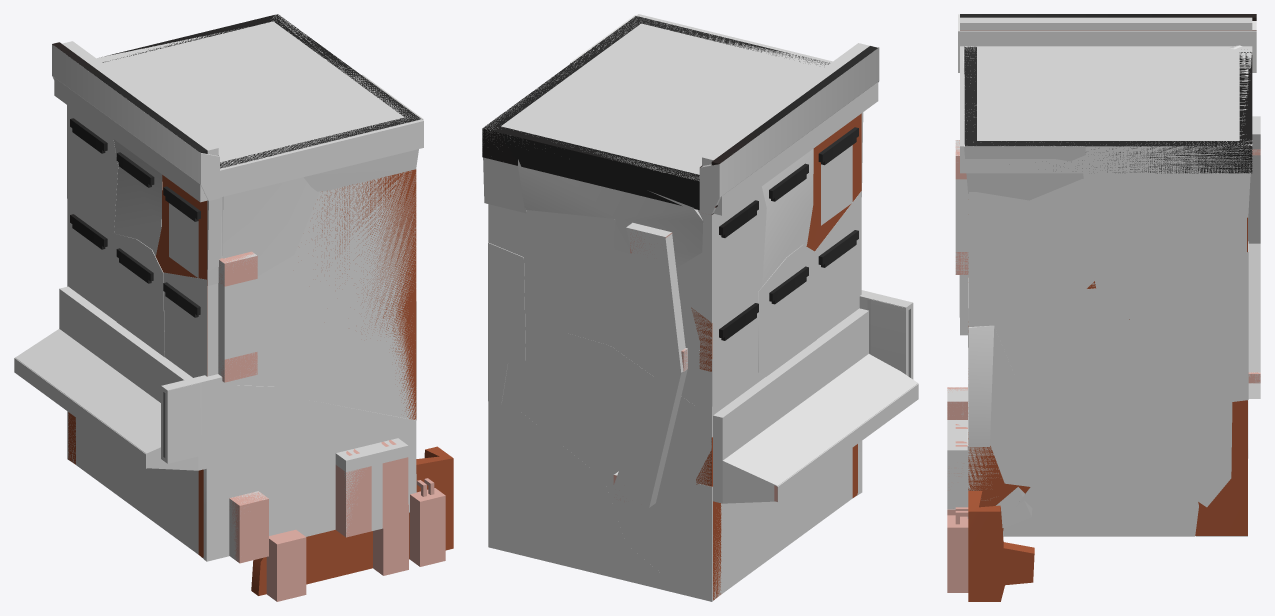
Rendered from Building_B2_Hm10_LDC_1_01.FBX.
3 views of the same model, side by side, from view 1: azimuth 30°, elevation 25°; view 2: azimuth 150°, elevation 25°; view 3: azimuth 270°, elevation 25° (orthographic). The views are drawn at different scales.
Parts seen in each view (by area): view 1: Building_B2_Home10_Damage_1_01, Building_B2_Home10_Live_1_01, Building_B2_Home10_Dead-Damage_1_23, Building_B2_Home10_Dead-Damage_1_24, Building_B2_Home10_Dead_1_24, Building_B2_Home10_Dead-Damage_1_15, Building_B2_Home10_Dead-Damage_1_01, Building_B2_Home10_Dead-Damage_1_17, Building_B2_Home10_Dead-Damage_1_10, Building_B2_Home10_Dead-Damage_1_11, Building_B2_Home10_Dead-Damage_1_13, Building_B2_Home10_Dead-Damage_1_04 (+8 smaller); view 2: Building_B2_Home10_Damage_1_01, Building_B2_Home10_Dead-Damage_1_23, Building_B2_Home10_Live_1_01, Building_B2_Home10_Dead-Damage_1_19, Building_B2_Home10_Dead-Damage_1_14, Building_B2_Home10_Dead-Damage_1_03, Building_B2_Home10_Dead-Damage_1_07, Building_B2_Home10_Dead-Damage_1_10, Building_B2_Home10_Dead-Damage_1_01, Building_B2_Home10_Dead-Damage_1_17, Building_B2_Home10_Dead-Damage_1_25, Building_B2_Home10_Dead-Damage_1_04 (+9 smaller); view 3: Building_B2_Home10_Damage_1_01, Building_B2_Home10_Dead-Damage_1_25, Building_B2_Home10_Dead-Damage_1_27, Building_B2_Home10_Dead-Damage_1_22, Building_B2_Home10_Live_1_01, Building_B2_Home10_Dead-Damage_1_20, Building_B2_Home10_Dead-Damage_1_26, Building_B2_Home10_Dead_1_24, Building_B2_Home10_Dead-Damage_1_01, Building_B2_Home10_Dead-Damage_1_21, Building_B2_Home10_Dead-Damage_1_08, Building_B2_Home10_Dead-Damage_1_06 (+4 smaller).
Boxes of the visible parts, bbox=[...] form: Building_B2_Home10_Damage_1_01: bbox=[14, 14, 423, 560]; Building_B2_Home10_Live_1_01: bbox=[52, 14, 420, 563]; Building_B2_Home10_Dead-Damage_1_23: bbox=[15, 286, 275, 470]; Building_B2_Home10_Dead-Damage_1_24: bbox=[229, 398, 416, 560]; Building_B2_Home10_Dead_1_24: bbox=[251, 446, 453, 601]; Building_B2_Home10_Dead-Damage_1_15: bbox=[219, 160, 319, 281]; Building_B2_Home10_Dead-Damage_1_01: bbox=[52, 44, 219, 200]; Building_B2_Home10_Dead-Damage_1_17: bbox=[110, 232, 164, 357]; Building_B2_Home10_Dead-Damage_1_10: bbox=[67, 105, 118, 233]; Building_B2_Home10_Dead-Damage_1_11: bbox=[163, 272, 257, 380]; Building_B2_Home10_Dead-Damage_1_13: bbox=[113, 139, 162, 255]; Building_B2_Home10_Dead-Damage_1_04: bbox=[67, 199, 116, 321]; Building_B2_Home10_Damage_1_01: bbox=[482, 14, 918, 599]; Building_B2_Home10_Dead-Damage_1_23: bbox=[713, 308, 918, 503]; Building_B2_Home10_Live_1_01: bbox=[482, 16, 910, 600]; Building_B2_Home10_Dead-Damage_1_19: bbox=[518, 333, 711, 571]; Building_B2_Home10_Dead-Damage_1_14: bbox=[503, 209, 699, 409]; Building_B2_Home10_Dead-Damage_1_03: bbox=[488, 401, 661, 588]; Building_B2_Home10_Dead-Damage_1_07: bbox=[518, 159, 703, 267]; Building_B2_Home10_Dead-Damage_1_10: bbox=[676, 186, 766, 322]; Building_B2_Home10_Dead-Damage_1_01: bbox=[699, 47, 879, 214]; Building_B2_Home10_Dead-Damage_1_17: bbox=[758, 244, 816, 376]; Building_B2_Home10_Dead-Damage_1_25: bbox=[488, 242, 525, 404]; Building_B2_Home10_Dead-Damage_1_04: bbox=[692, 292, 765, 437]; Building_B2_Home10_Damage_1_01: bbox=[947, 17, 1260, 509]; Building_B2_Home10_Dead-Damage_1_25: bbox=[1096, 241, 1248, 507]; Building_B2_Home10_Dead-Damage_1_27: bbox=[990, 288, 1144, 487]; Building_B2_Home10_Dead-Damage_1_22: bbox=[969, 179, 1118, 326]; Building_B2_Home10_Live_1_01: bbox=[947, 14, 1260, 535]; Building_B2_Home10_Dead-Damage_1_20: bbox=[1091, 183, 1246, 320]; Building_B2_Home10_Dead-Damage_1_26: bbox=[1003, 432, 1198, 536]; Building_B2_Home10_Dead_1_24: bbox=[947, 491, 1034, 601]; Building_B2_Home10_Dead-Damage_1_01: bbox=[958, 14, 1256, 72]; Building_B2_Home10_Dead-Damage_1_21: bbox=[968, 325, 1014, 446]; Building_B2_Home10_Dead-Damage_1_08: bbox=[964, 74, 1085, 200]; Building_B2_Home10_Dead-Damage_1_06: bbox=[1083, 173, 1250, 217].
Bounding box in the file's own units: 9.94 × 14.45 × 8.88.
